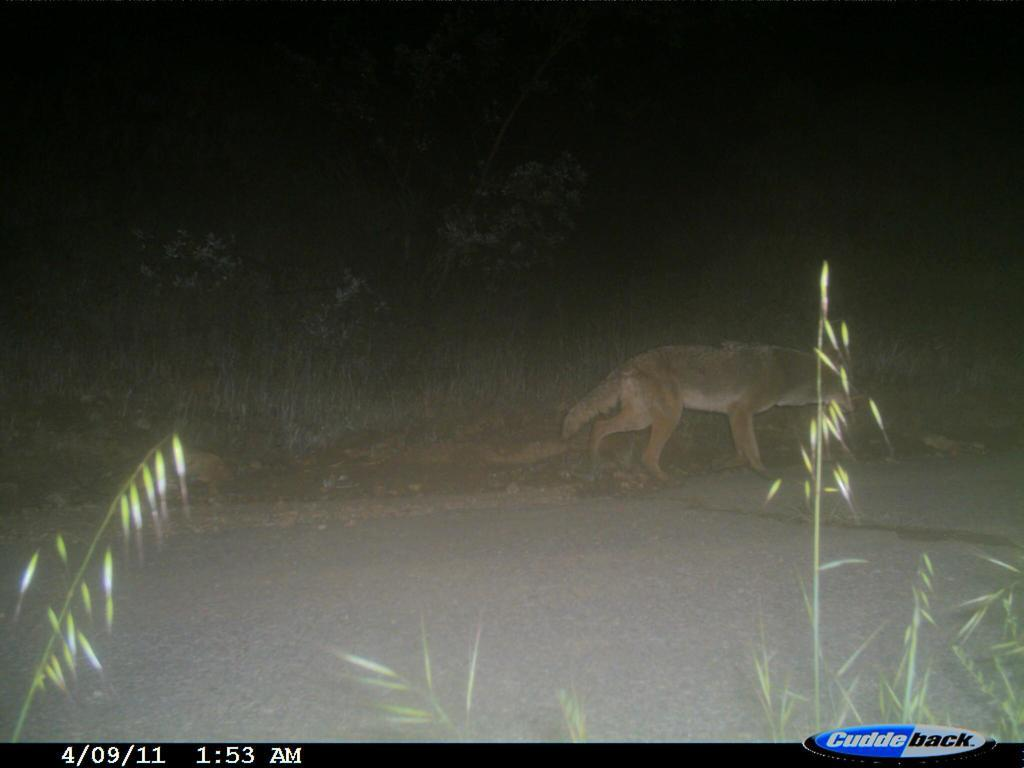coyote: (555, 342, 870, 514)
